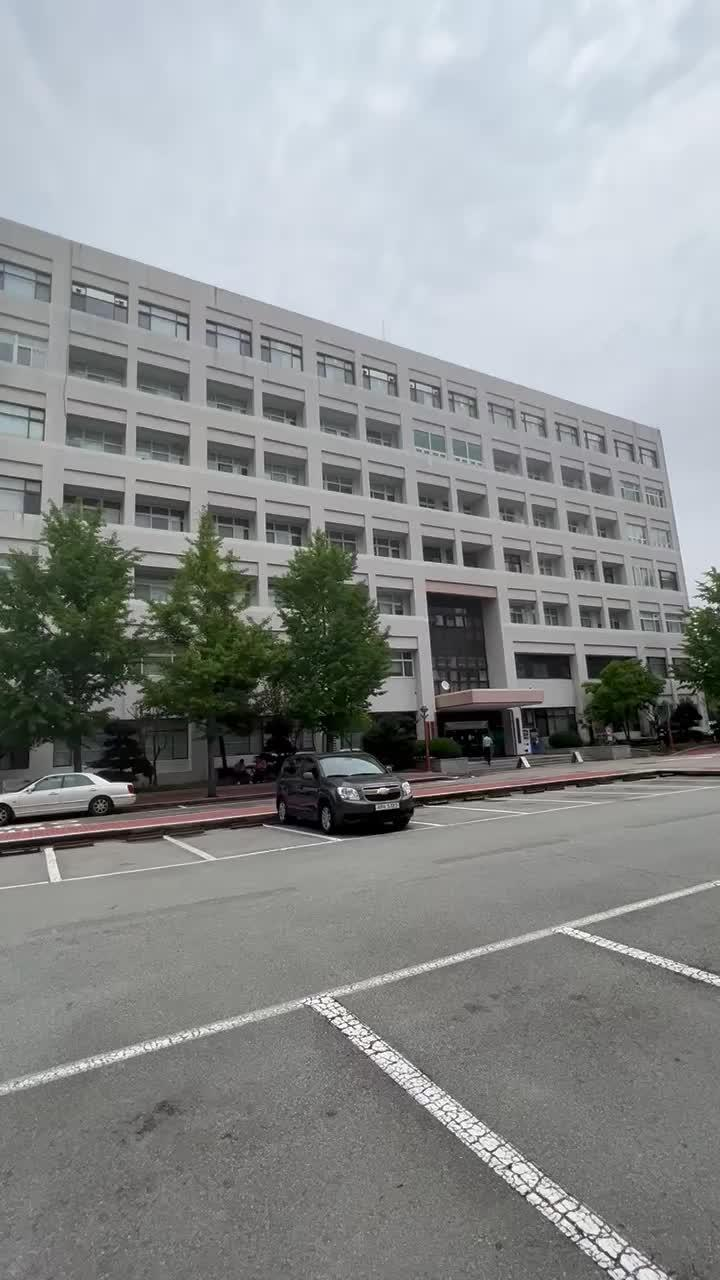building: (46, 328, 680, 574)
